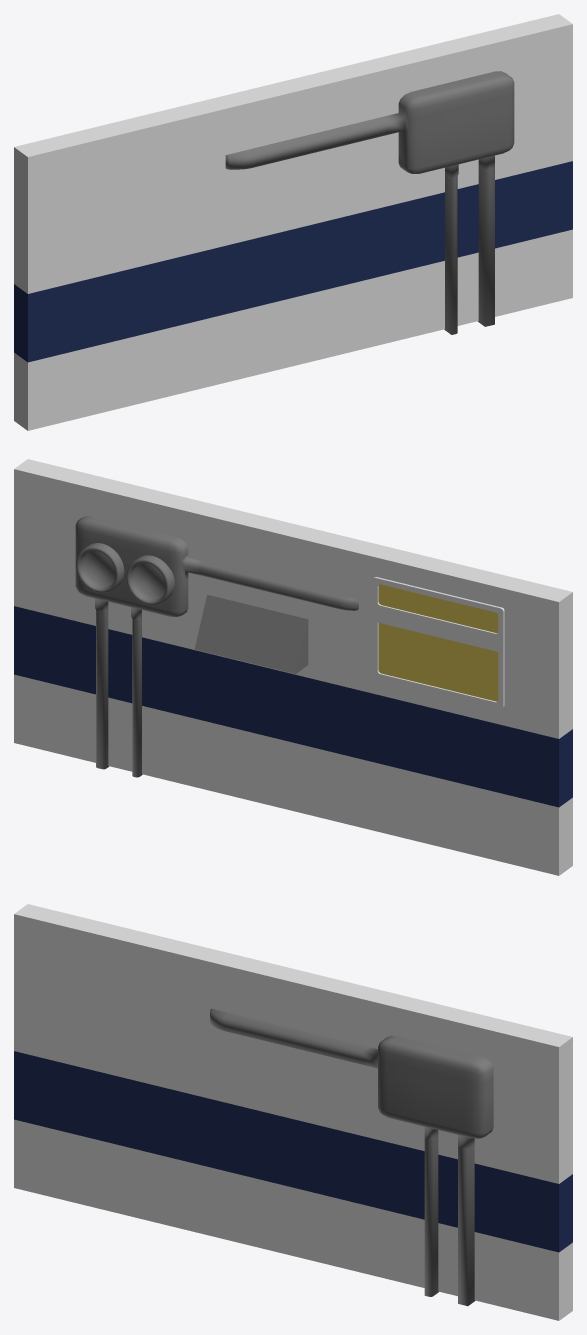
The model's file is kitchenbackwall.fbx.
The picture shows the model from 3 angles, top to bottom: view 1: azimuth 30°, elevation 25°; view 2: azimuth 150°, elevation 25°; view 3: azimuth 330°, elevation 25°; orthographic projection.
Parts seen in each view (by area): view 1: Cube; view 2: Cube; view 3: Cube.
Boxes of the visible parts, box(x1,y1,x2,y2) form: Cube: box(14, 14, 572, 430); Cube: box(14, 459, 572, 875); Cube: box(14, 904, 572, 1320).
Bounding box in the file's own units: 2500 × 1205 × 294.
